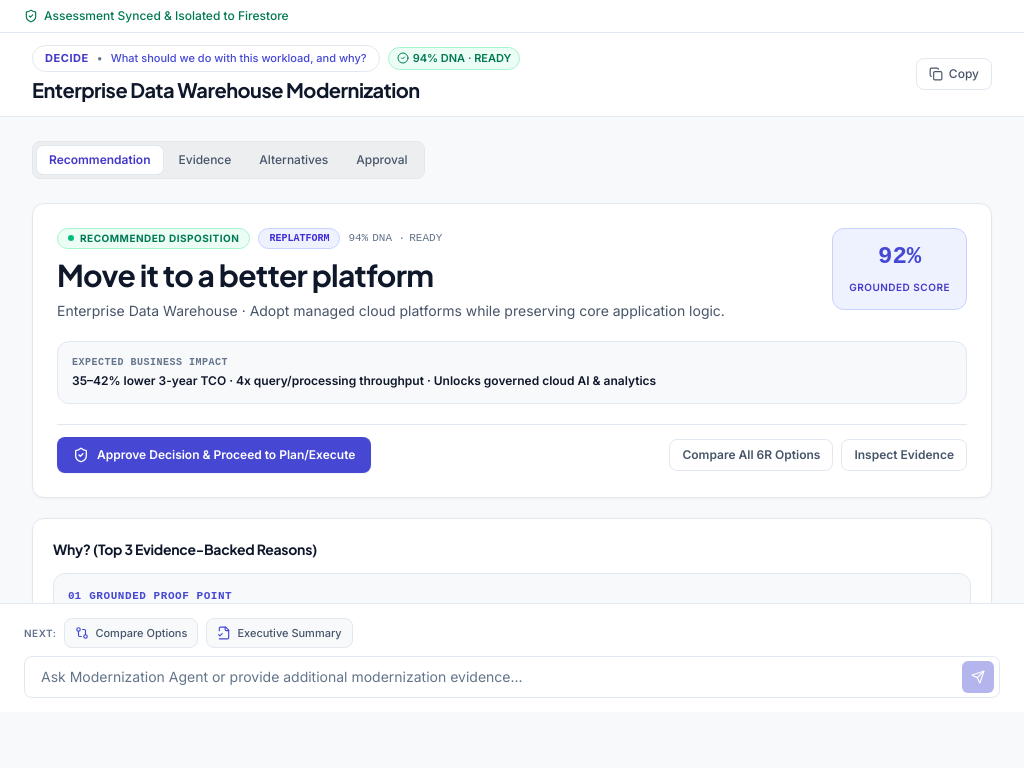
Test case: EMOS v2 Full-Lifecycle Autonomous Implementation › renders Plain-English decision summary hero in ReflectionWorkspace with Top 3 reasons and Compare All 6R Options
Later steps or results of the test are not shown.
expect the element named "Executive Decision Summary" is shown: met, box [32,202,992,498]
expect the heading "Move it to a better platform" is shown: met, box [57,256,433,294]
Step 1. Click the button "Compare All 6R Options" → (752,455), box [670,439,834,471]
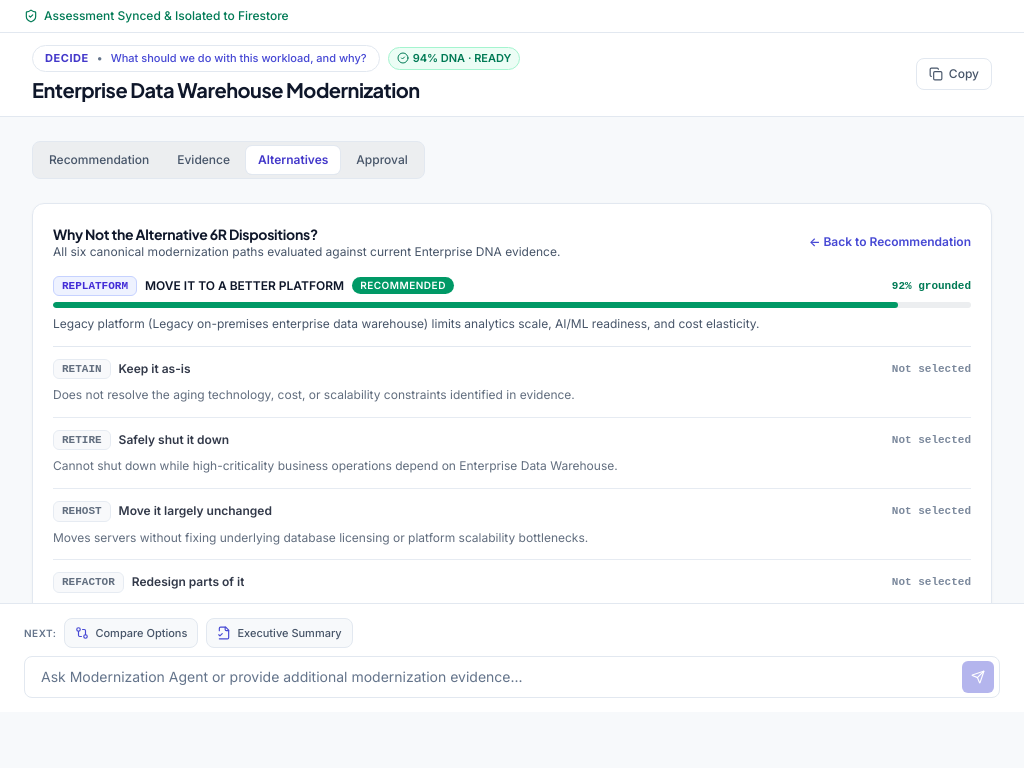
expect the heading "Why Not the Alternative 6R Dispositions?" is shown: met, box [53,224,318,242]
